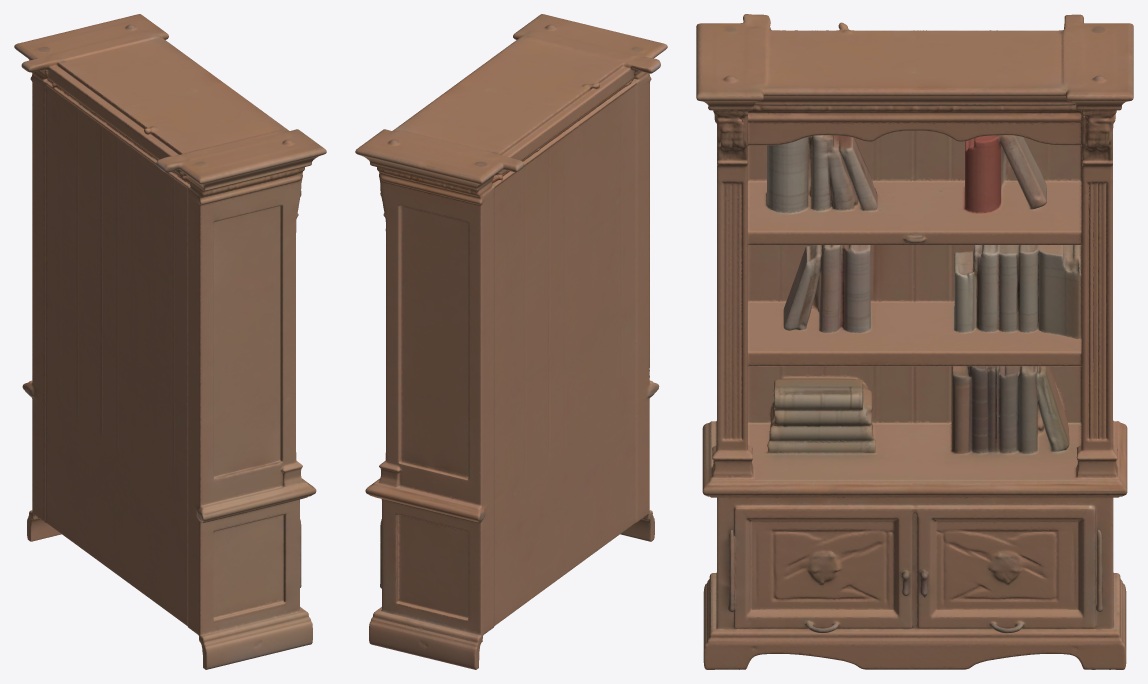
File: detailed_realistic_model_antiquebookshelf_10.glb
The picture shows the model from 3 angles, left to right: view 1: azimuth 30°, elevation 25°; view 2: azimuth 150°, elevation 25°; view 3: azimuth 270°, elevation 25°; orthographic projection. The views are drawn at different scales.
Visible parts, largest first — view 1: tripo_node_d58ccd66-eeda-4b4a-89c5-3f4f071e8a5f; view 2: tripo_node_d58ccd66-eeda-4b4a-89c5-3f4f071e8a5f; view 3: tripo_node_d58ccd66-eeda-4b4a-89c5-3f4f071e8a5f.
Boxes of the visible parts, box(x1,y1,x2,y2) form: tripo_node_d58ccd66-eeda-4b4a-89c5-3f4f071e8a5f: box(14, 14, 326, 669); tripo_node_d58ccd66-eeda-4b4a-89c5-3f4f071e8a5f: box(355, 14, 667, 669); tripo_node_d58ccd66-eeda-4b4a-89c5-3f4f071e8a5f: box(696, 14, 1133, 669).
Size of the model in its own units: 0.296 by 1 by 0.6755.
Materials: 1 (1 with a texture image).
